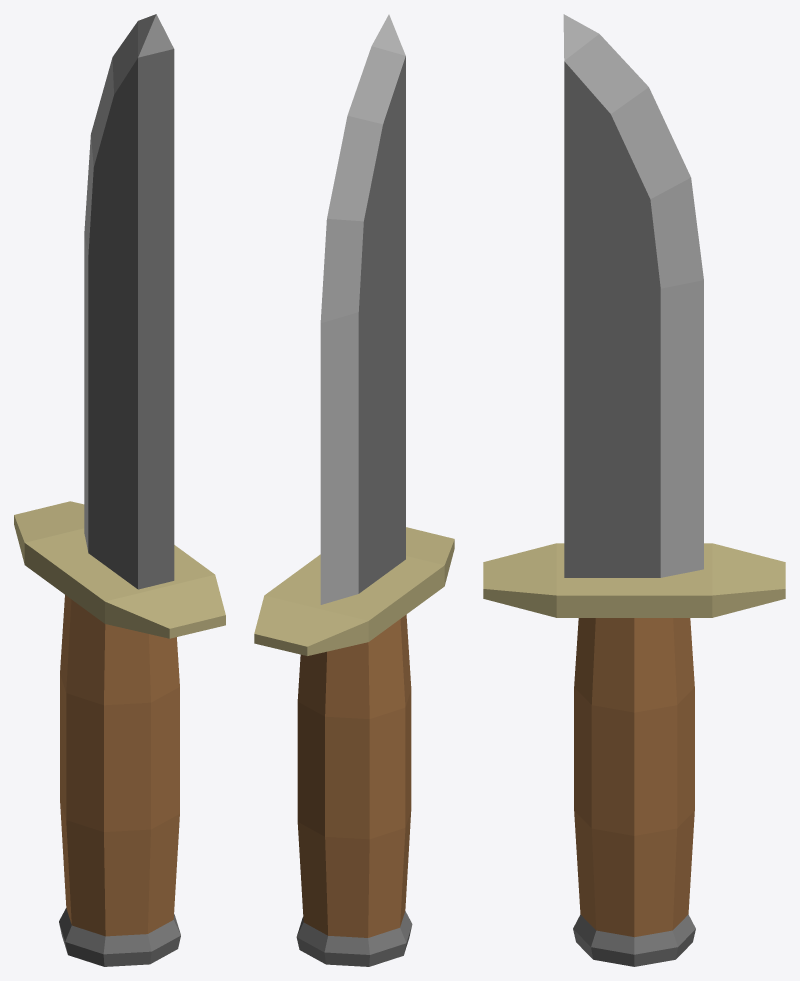
File: melee-knife-b.glb
The picture shows the model from 3 angles, left to right: view 1: azimuth 30°, elevation 25°; view 2: azimuth 150°, elevation 25°; view 3: azimuth 270°, elevation 25°; orthographic projection. The views are drawn at different scales.
Parts seen in each view (by area): view 1: CouteauB; view 2: CouteauB; view 3: CouteauB.
Boxes of the visible parts, x1=… form: CouteauB: x1=14, y1=14, x2=225, y2=966; CouteauB: x1=254, y1=14, x2=454, y2=966; CouteauB: x1=483, y1=14, x2=785, y2=966.
Size of the model in its own units: 55.47 by 459 by 136.
